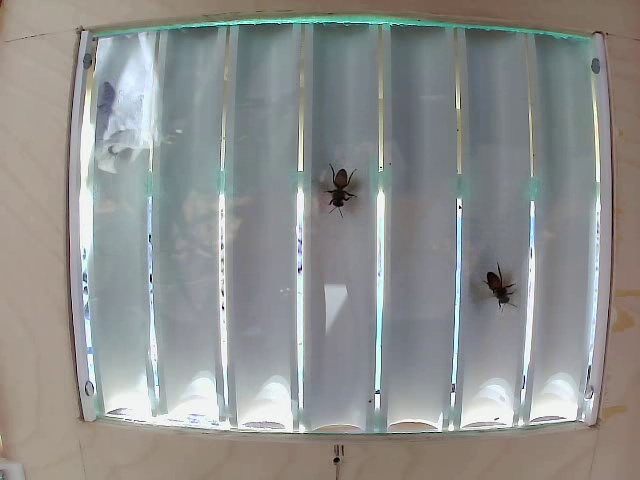bee: (477, 256, 525, 322), (320, 152, 364, 222)
